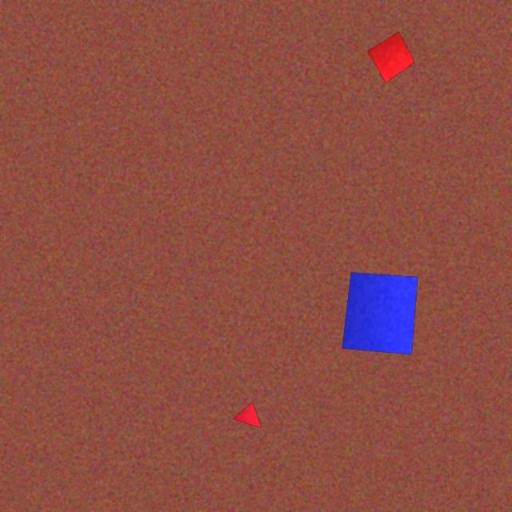BLUE_SQUARE: (342, 271, 418, 355)
RED_SQUARE: (366, 30, 416, 84)
